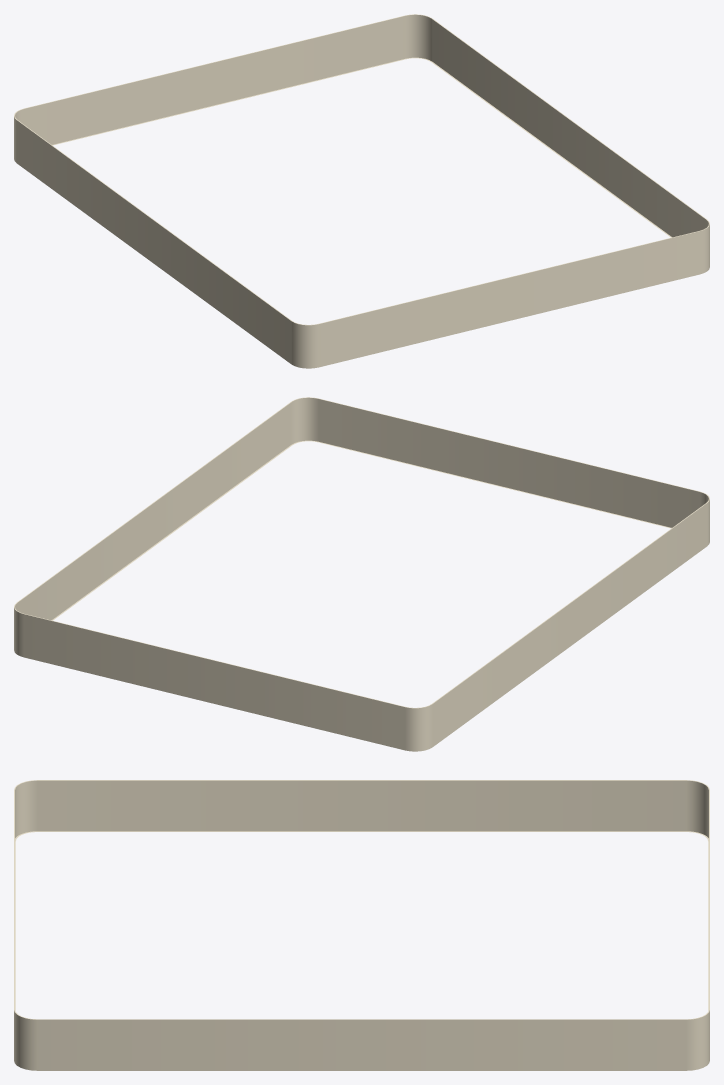
File: original-32.obj
The picture shows the model from 3 angles, top to bottom: view 1: azimuth 30°, elevation 25°; view 2: azimuth 150°, elevation 25°; view 3: azimuth 270°, elevation 25°; orthographic projection. The views are drawn at different scales.
Parts seen in each view (by area): view 1: #ID155; view 2: #ID155; view 3: #ID155.
Boxes of the visible parts, box(x1,y1,x2,y2) form: #ID155: box(14, 14, 709, 368); #ID155: box(14, 397, 709, 751); #ID155: box(14, 780, 709, 1070).
Size of the model in its own units: 0.9567 by 0.0951 by 1.17.
